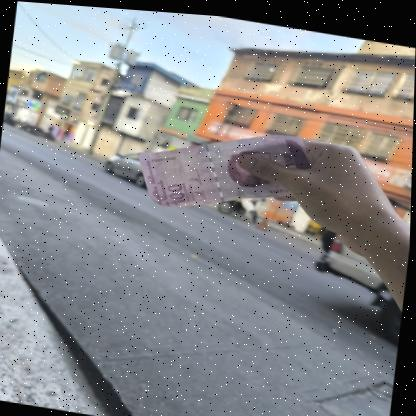one_hundred-front-vef: (131, 106, 319, 227)
